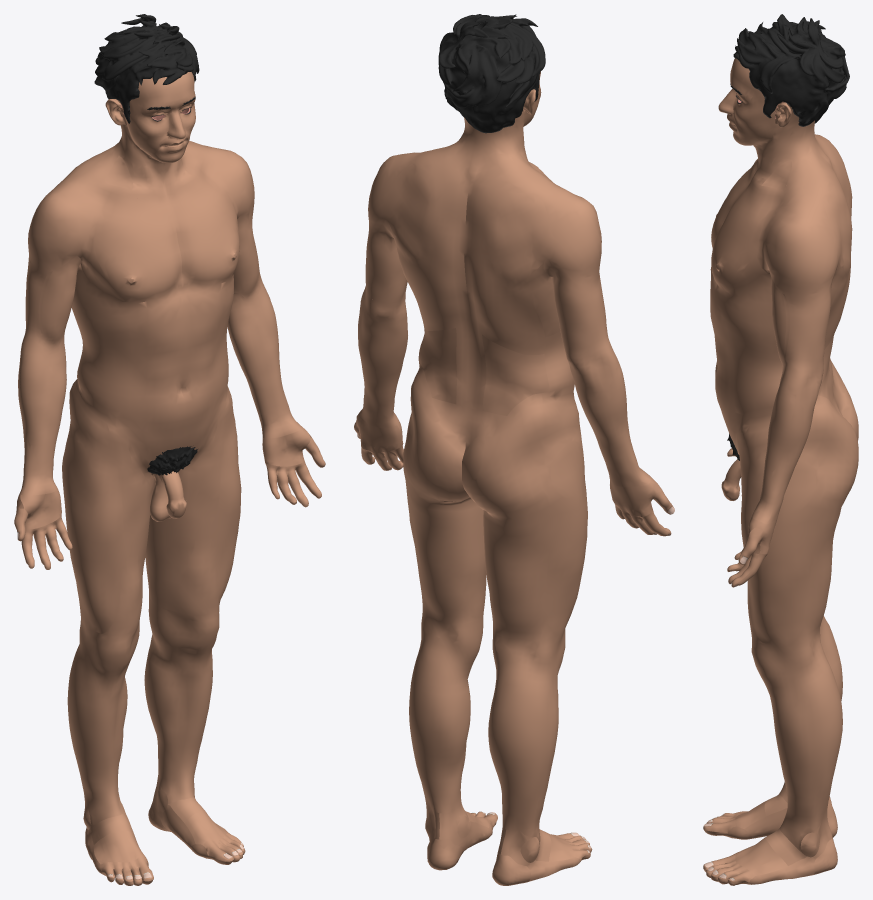
File: human_model.glb
3 renders of one model, left to right at view 1: azimuth 30°, elevation 25°; view 2: azimuth 150°, elevation 25°; view 3: azimuth 270°, elevation 25°, orthographic. The views are drawn at different scales.
Parts seen in each view (by area): view 1: Leg.Anterior region of thigh.r.001, Leg.Anterior region of thigh.l.001, Hair.Hairs of head.001, Leg.Anterior region of leg.l.001, Leg.Anterior region of leg.r.001, Head.Pectoral region.r.001, Arm.Deltoid region.r.001, Arm.Anterior region of forearm.l.001, Arm.Anterior region of forearm.r.001, Chest.Lateral region of thorax.r.001, Abdomen.Lateral region of abdomen.r.001, Head.Pectoral region.l.001 (+46 smaller); view 2: Leg.Posterior region of thigh.r.001, Hair.Hairs of head.001, Leg.Gluteal region.r.001, Leg.Posterior region of thigh.l.001, Leg.Posterior region of leg.r.001, Leg.Posterior region of leg.l.001, Leg.Gluteal region.l.001, Back.Scapular region.r.001, Arm.Posterior region of arm.r.001, Back.Infrascapular region.r.001, Back.Scapular region.l.001, Arm.Posterior region of forearm.r.001 (+32 smaller); view 3: Hair.Hairs of head.001, Leg.Anterior region of thigh.l.001, Leg.Posterior region of thigh.l.001, Arm.Deltoid region.l.001, Leg.Gluteal region.l.001, Leg.Posterior region of leg.l.001, Chest.Lateral region of thorax.l.001, Leg.Anterior region of leg.l.001, Abdomen.Lateral region of abdomen.l.001, Head.Pectoral region.l.001, Arm.Posterior region of arm.l.001, Neck.Posterior region of neck.l.001 (+45 smaller).
Boxes of the visible parts, left/top/right/bottom form: Leg.Anterior region of thigh.r.001: left=69, top=382, right=154, bottom=636; Leg.Anterior region of thigh.l.001: left=150, top=383, right=241, bottom=615; Hair.Hairs of head.001: left=94, top=14, right=199, bottom=123; Leg.Anterior region of leg.l.001: left=153, top=654, right=212, bottom=780; Leg.Anterior region of leg.r.001: left=74, top=674, right=127, bottom=799; Head.Pectoral region.r.001: left=94, top=205, right=174, bottom=302; Arm.Deltoid region.r.001: left=28, top=174, right=90, bottom=271; Arm.Anterior region of forearm.l.001: left=228, top=304, right=292, bottom=425; Arm.Anterior region of forearm.r.001: left=22, top=360, right=66, bottom=481; Chest.Lateral region of thorax.r.001: left=71, top=225, right=147, bottom=333; Abdomen.Lateral region of abdomen.r.001: left=77, top=342, right=147, bottom=422; Head.Pectoral region.l.001: left=183, top=179, right=238, bottom=284; Leg.Posterior region of thigh.r.001: left=483, top=496, right=579, bottom=640; Hair.Hairs of head.001: left=438, top=14, right=545, bottom=133; Leg.Gluteal region.r.001: left=462, top=392, right=567, bottom=518; Leg.Posterior region of thigh.l.001: left=404, top=472, right=485, bottom=624; Leg.Posterior region of leg.r.001: left=488, top=688, right=555, bottom=830; Leg.Posterior region of leg.l.001: left=409, top=667, right=468, bottom=813; Leg.Gluteal region.l.001: left=403, top=360, right=470, bottom=501; Back.Scapular region.r.001: left=486, top=191, right=559, bottom=287; Arm.Posterior region of arm.r.001: left=543, top=242, right=606, bottom=348; Back.Infrascapular region.r.001: left=475, top=273, right=545, bottom=354; Back.Scapular region.l.001: left=379, top=164, right=436, bottom=266; Arm.Posterior region of forearm.r.001: left=570, top=368, right=640, bottom=475; Hair.Hairs of head.001: left=733, top=14, right=849, bottom=126; Leg.Anterior region of thigh.l.001: left=738, top=407, right=787, bottom=646; Leg.Posterior region of thigh.l.001: left=783, top=506, right=841, bottom=645; Arm.Deltoid region.l.001: left=763, top=197, right=834, bottom=297; Leg.Gluteal region.l.001: left=798, top=395, right=858, bottom=509; Leg.Posterior region of leg.l.001: left=798, top=679, right=842, bottom=822; Chest.Lateral region of thorax.l.001: left=715, top=229, right=846, bottom=343; Leg.Anterior region of leg.l.001: left=770, top=696, right=806, bottom=822; Abdomen.Lateral region of abdomen.l.001: left=723, top=347, right=782, bottom=414; Head.Pectoral region.l.001: left=711, top=197, right=769, bottom=291; Arm.Posterior region of arm.l.001: left=799, top=248, right=839, bottom=364; Neck.Posterior region of neck.l.001: left=784, top=120, right=834, bottom=199.
Bounding box in the file's own units: 0.6801 × 1.74 × 0.294.
